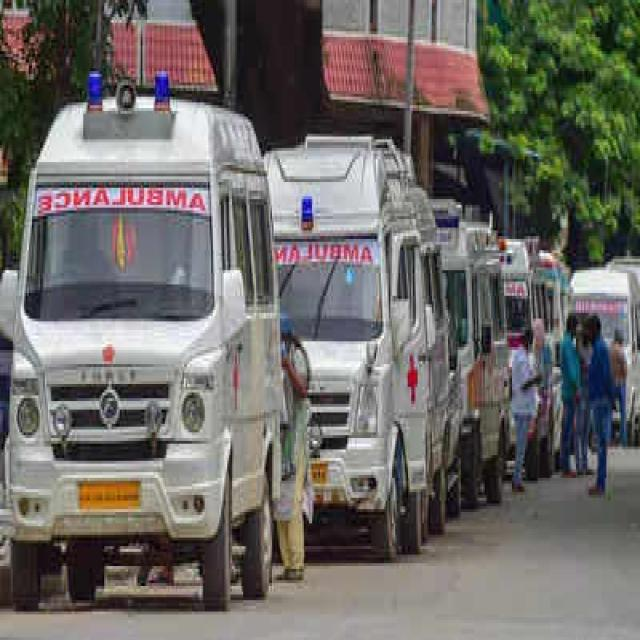emergency: (0, 73, 281, 610), (266, 136, 459, 557), (434, 200, 506, 507), (506, 238, 569, 477), (570, 267, 640, 392)
